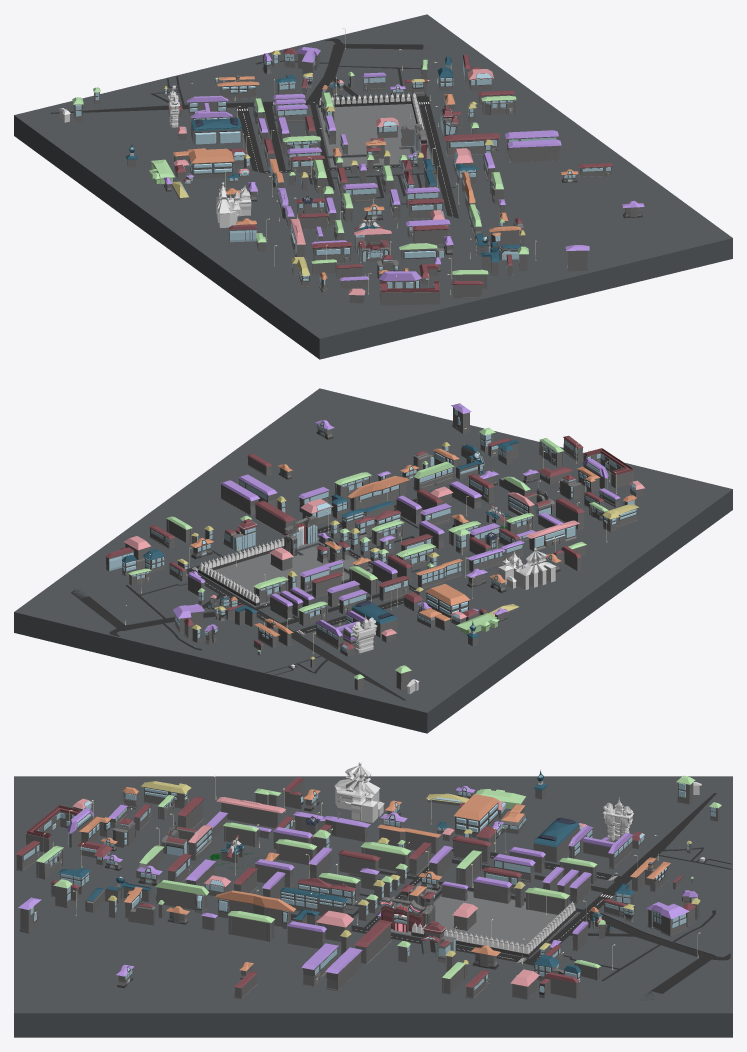
File: NewRakovo1.fbx
The picture shows the model from 3 angles, top to bottom: view 1: azimuth 30°, elevation 25°; view 2: azimuth 150°, elevation 25°; view 3: azimuth 270°, elevation 25°; orthographic projection. The views are drawn at different scales.
Visible parts, largest first — view 1: Plane, Cube.018, Cube, Cube.167, Cube.084, Cube.132, Cube.022, Cube.083, Cube.028, Cube.044, Cube.125, Cube.146 (+8 smaller); view 2: Plane, Cube.132, Cube.145, Cube, Cube.090, Cube.022, Cube.057, Cube.167, Cube.037, Cube.085, Cube.144, Cube.065 (+22 smaller); view 3: Plane, Cube.132, Cube.145, Cube.022, Cube.057, Cube, Cube.090, Cube.018, Cube.144, Cube.068, Cube.079, Cube.085 (+60 smaller).
Part boxes in pixels (<box>): Plane: <box>14,14,732,359</box>; Cube.018: <box>191,117,241,144</box>; Cube: <box>188,148,234,178</box>; Cube.167: <box>379,281,440,305</box>; Cube.084: <box>507,139,561,162</box>; Cube.132: <box>215,182,251,227</box>; Cube.022: <box>187,95,232,120</box>; Cube.083: <box>443,133,500,156</box>; Cube.028: <box>217,75,259,99</box>; Cube.044: <box>311,242,352,263</box>; Cube.125: <box>318,93,411,107</box>; Cube.146: <box>475,233,522,260</box>; Plane: <box>14,388,732,733</box>; Cube.132: <box>498,548,556,589</box>; Cube.145: <box>348,476,409,510</box>; Cube: <box>425,583,469,620</box>; Cube.090: <box>526,520,579,551</box>; Cube.022: <box>315,610,368,649</box>; Cube.057: <box>284,516,318,556</box>; Cube.167: <box>583,448,633,488</box>; Cube.037: <box>198,537,284,573</box>; Cube.085: <box>467,540,524,571</box>; Cube.144: <box>413,461,454,491</box>; Cube.065: <box>220,480,259,515</box>; Plane: <box>14,776,732,1037</box>; Cube.132: <box>334,762,380,822</box>; Cube.145: <box>215,890,295,928</box>; Cube.022: <box>568,825,632,868</box>; Cube.057: <box>379,896,435,932</box>; Cube: <box>454,794,499,837</box>; Cube.090: <box>216,797,285,827</box>; Cube.018: <box>533,817,579,862</box>; Cube.144: <box>155,879,209,913</box>; Cube.068: <box>280,887,348,916</box>; Cube.079: <box>228,911,274,941</box>; Cube.085: <box>293,811,370,841</box>.
Bounding box in the file's own units: 986 × 131 × 1264.
